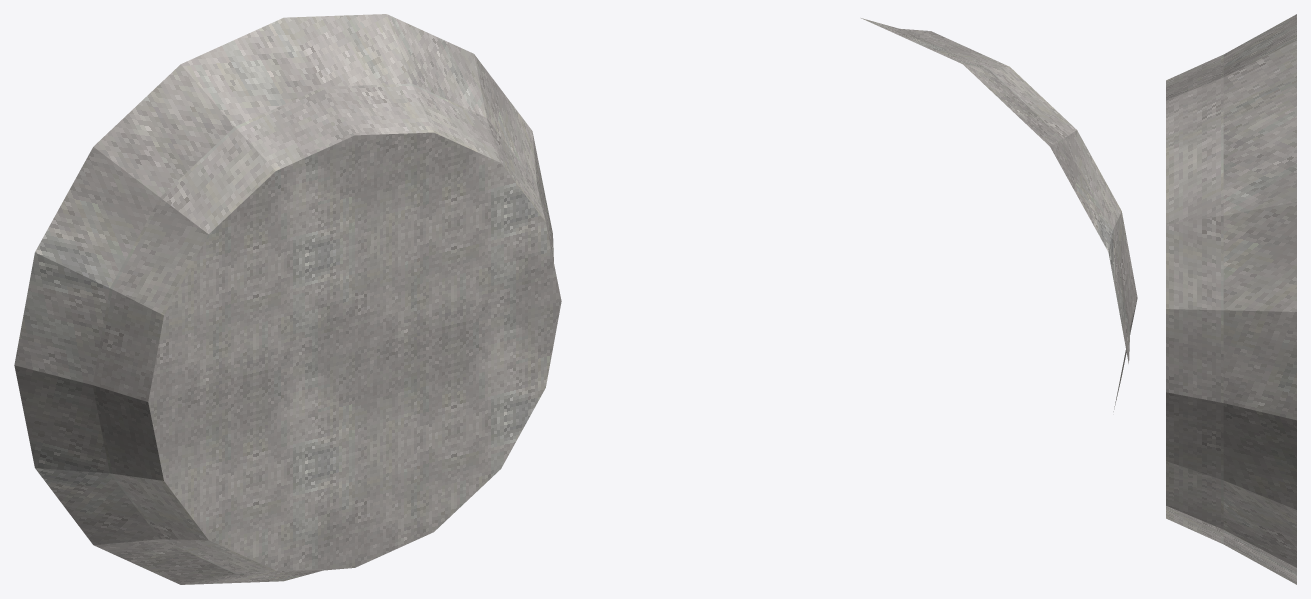
File: jc-gj-080-geode.glb
The picture shows the model from 3 angles, left to right: view 1: azimuth 30°, elevation 25°; view 2: azimuth 150°, elevation 25°; view 3: azimuth 270°, elevation 25°; orthographic projection. The views are drawn at different scales.
Visible parts, largest first — view 1: Node; view 2: Node; view 3: Node.
Boxes of the visible parts, bbox=[...] form: Node: bbox=[14, 14, 561, 584]; Node: bbox=[861, 18, 1137, 411]; Node: bbox=[1166, 14, 1296, 584].
Bounding box in the file's own units: 0.5654 × 0.5654 × 0.1296.
1 material, 1 textured.
